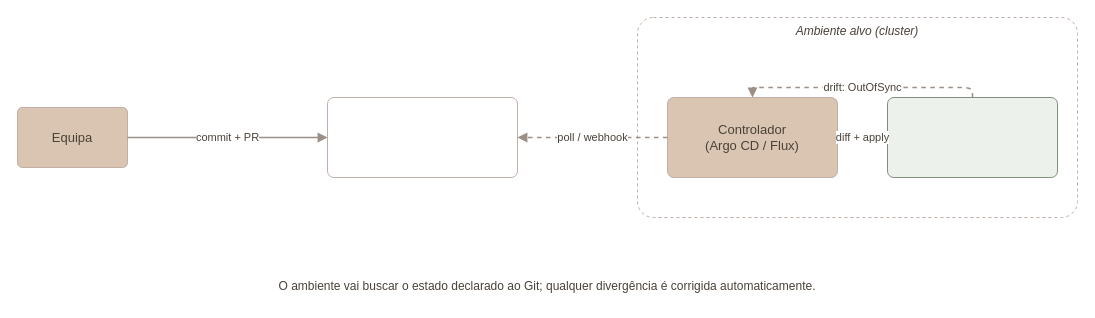
Some shapes in this 1095 by 318 pixel diagram are drawn without their labels. The centre of each missing label's shape, as x and y in pixels:
Estado observado (API do Kubernetes): [972,137]
Repositório Git manifests / Helm (fonte de verdade): [422,137]
